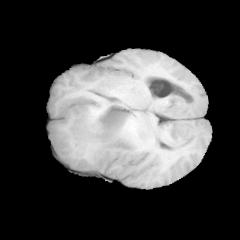glioma: (66, 101, 135, 168)
